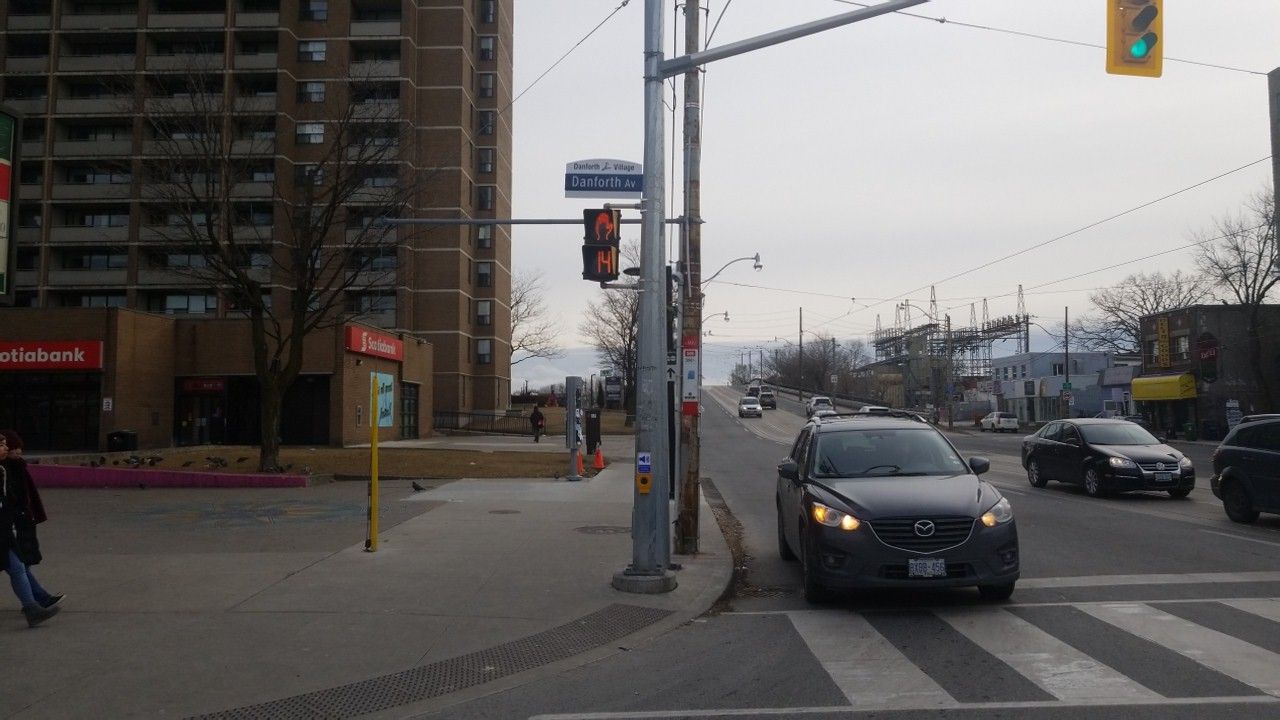light: (578, 202, 622, 284)
